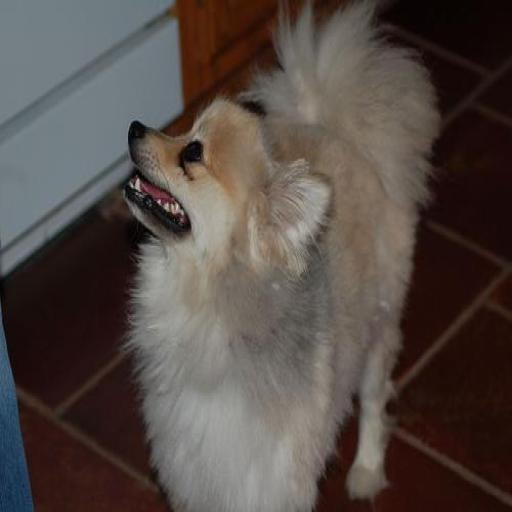dog_face: (124, 103, 336, 288)
